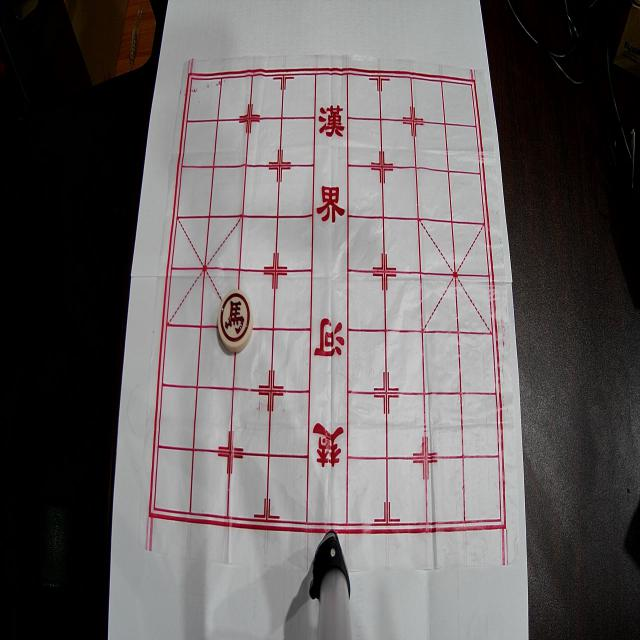red-horse: (218, 290, 253, 352)
